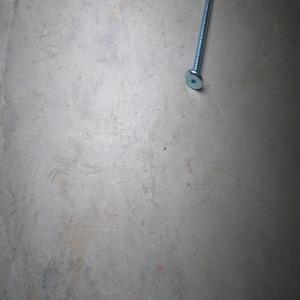Bolt: (184, 0, 212, 90)
